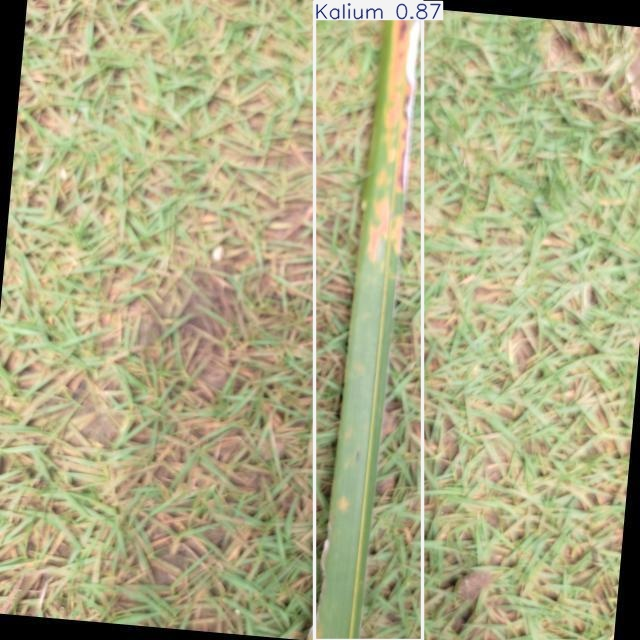Kalium: (314, 1, 423, 640)
